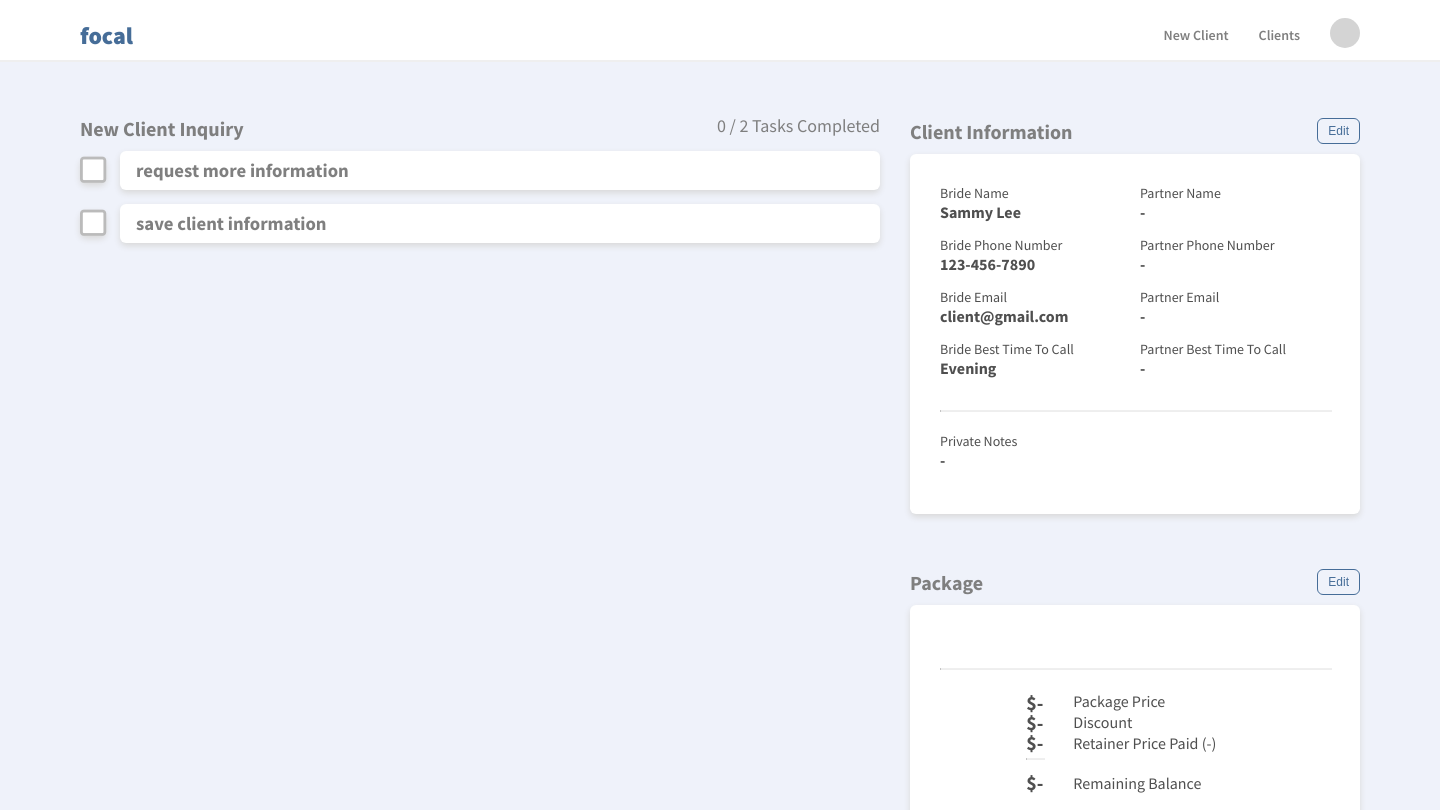
Test case: Workflow Flow › renders a successful checkmark after hitting an incomplete todo on Client Page
Expected: the heading "New Client Inquiry" is shown, [80,116,244,141]
Expected: the heading "0 / 2 Tasks Completed" is shown, [717,114,880,137]
Click the element with test id "todo-checkmark" next to "request more information" at (93, 170), box [80,156,106,182]
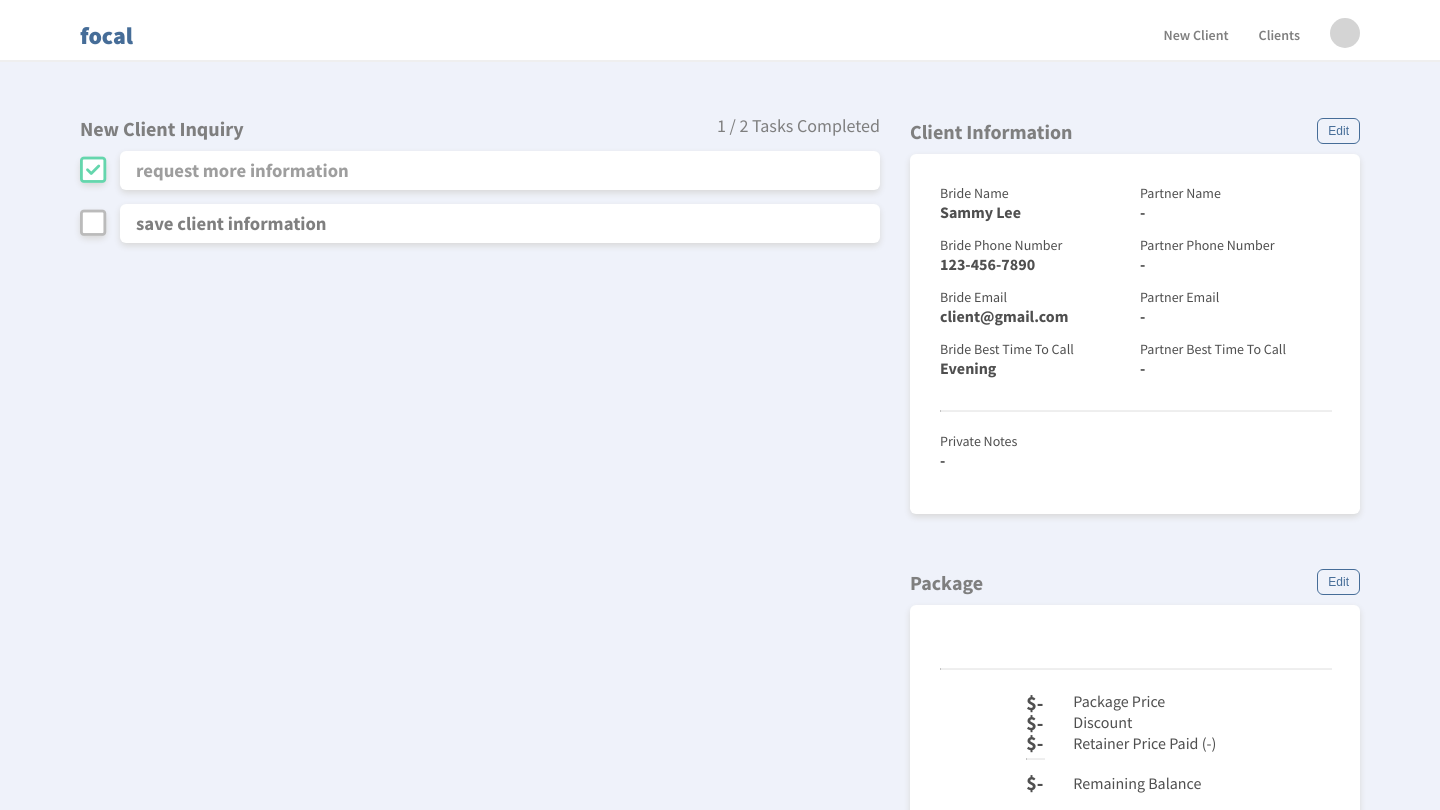
Now the heading "1 / 2 Tasks Completed" is shown, box [717,114,880,137]
